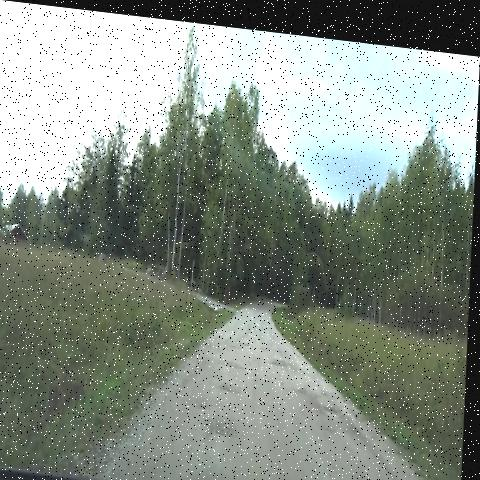pothole: (201, 398, 250, 449), (320, 373, 353, 425), (217, 339, 254, 373), (213, 369, 249, 397), (265, 341, 297, 369), (290, 372, 319, 401), (238, 330, 260, 349)
